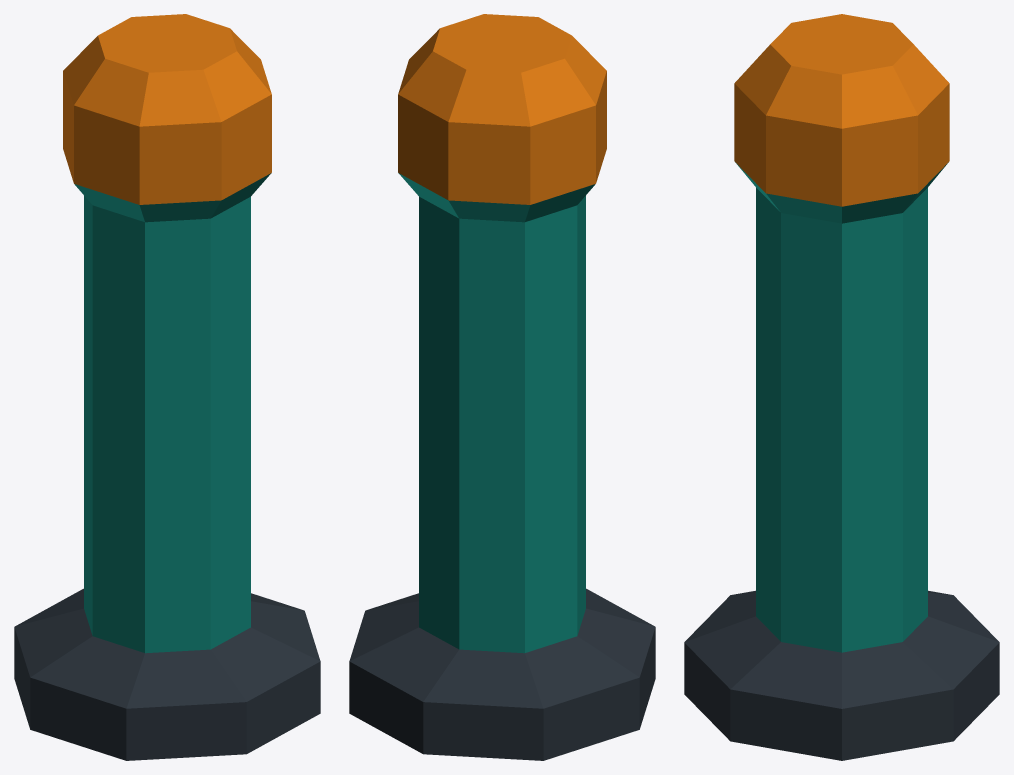
Rendered from beacon-far.glb.
3 renders of one model, left to right at view 1: azimuth 30°, elevation 25°; view 2: azimuth 150°, elevation 25°; view 3: azimuth 270°, elevation 25°, orthographic.
Visible parts, largest first — view 1: beacon_far; view 2: beacon_far; view 3: beacon_far.
Part boxes in pixels (x1=…): beacon_far: x1=14, y1=14, x2=320, y2=760; beacon_far: x1=349, y1=14, x2=655, y2=760; beacon_far: x1=684, y1=14, x2=999, y2=760.
Size of the model in its own units: 0.44 by 1 by 0.44.
